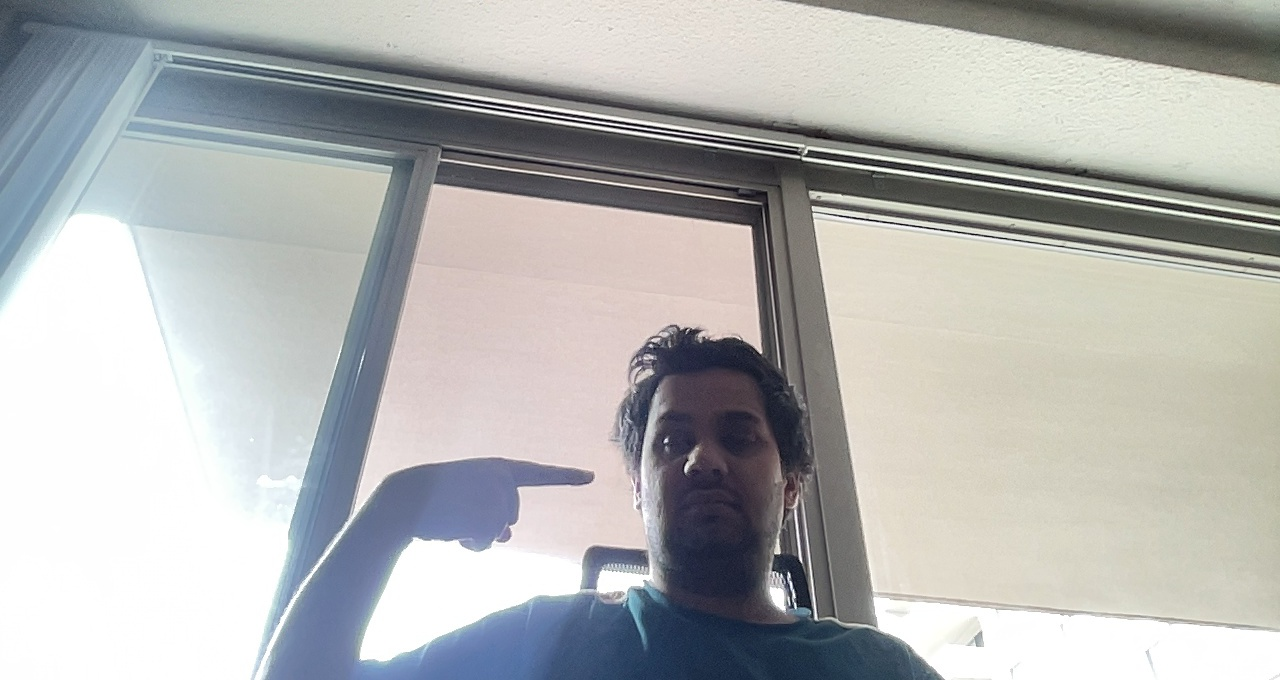fingerleft: (388, 453, 596, 551)
